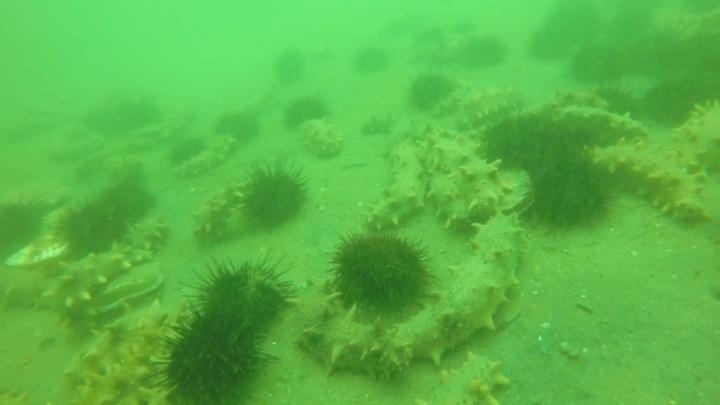echinus: (154, 305, 271, 405), (326, 229, 436, 319), (189, 251, 297, 338), (522, 155, 614, 235), (476, 110, 561, 177), (235, 162, 312, 232), (55, 196, 133, 260), (597, 7, 666, 65), (82, 91, 164, 139), (1, 194, 49, 261), (641, 79, 698, 130), (566, 40, 627, 87), (101, 180, 156, 225), (402, 69, 454, 112), (593, 83, 644, 123), (460, 32, 509, 73), (214, 108, 262, 146), (281, 94, 330, 131), (527, 26, 568, 64), (166, 134, 209, 169), (271, 48, 308, 88), (350, 44, 391, 78)
holothurian: (395, 212, 530, 369), (288, 275, 412, 382), (587, 138, 714, 228), (426, 129, 517, 229), (63, 309, 176, 383), (361, 140, 431, 235), (31, 254, 146, 307), (71, 357, 173, 405), (424, 350, 512, 405), (547, 103, 650, 148), (664, 96, 720, 178), (420, 169, 480, 241), (190, 178, 247, 247), (1, 259, 65, 316), (169, 137, 238, 186), (458, 85, 540, 122), (117, 213, 171, 257), (296, 117, 346, 162), (547, 82, 614, 115), (415, 12, 481, 38), (404, 38, 459, 67), (433, 81, 482, 113), (381, 12, 432, 38), (359, 112, 400, 139)
scallop: (89, 262, 168, 317), (1, 191, 54, 263), (2, 223, 75, 274), (643, 3, 717, 47), (2, 178, 72, 216), (490, 165, 536, 218), (48, 124, 108, 163)
